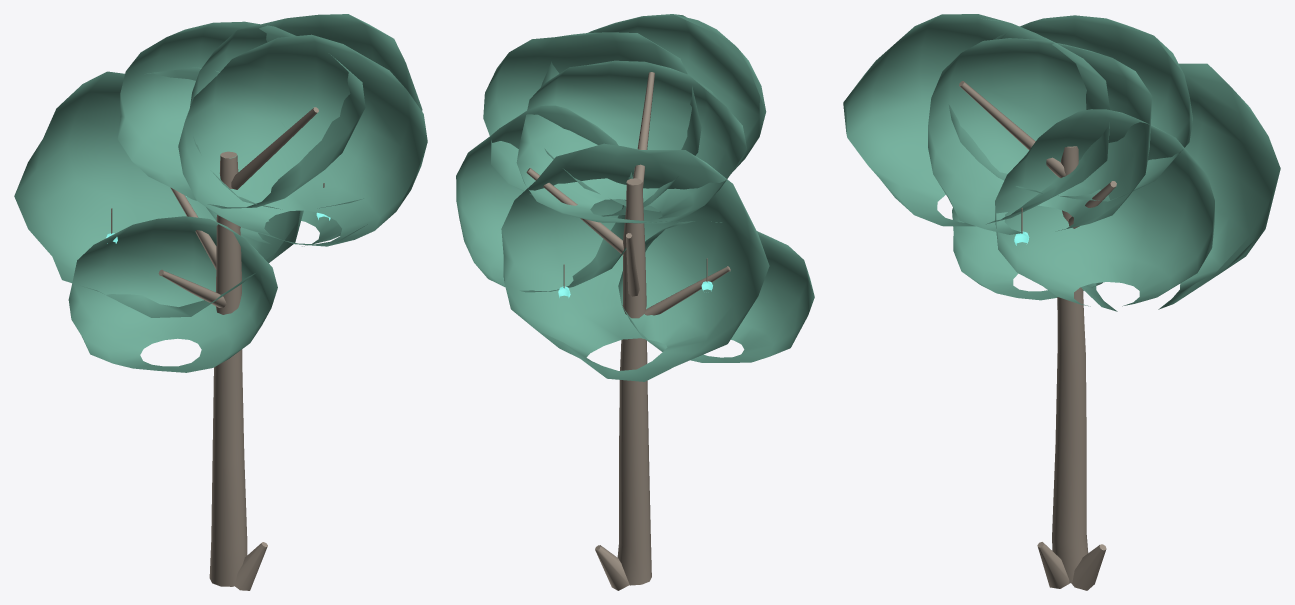
File: SM_Tree_Broadleaf.glb
3 views of the same model, side by side, from view 1: azimuth 30°, elevation 25°; view 2: azimuth 150°, elevation 25°; view 3: azimuth 270°, elevation 25° (orthographic). The views are drawn at different scales.
Parts seen in each view (by area): view 1: SM_Tree_Broadleaf; view 2: SM_Tree_Broadleaf; view 3: SM_Tree_Broadleaf.
Part boxes in pixels (bbox=[...]): SM_Tree_Broadleaf: bbox=[14, 14, 427, 590]; SM_Tree_Broadleaf: bbox=[456, 14, 814, 590]; SM_Tree_Broadleaf: bbox=[843, 14, 1280, 590].
Size of the model in its own units: 4.39 by 7.1 by 4.97.
